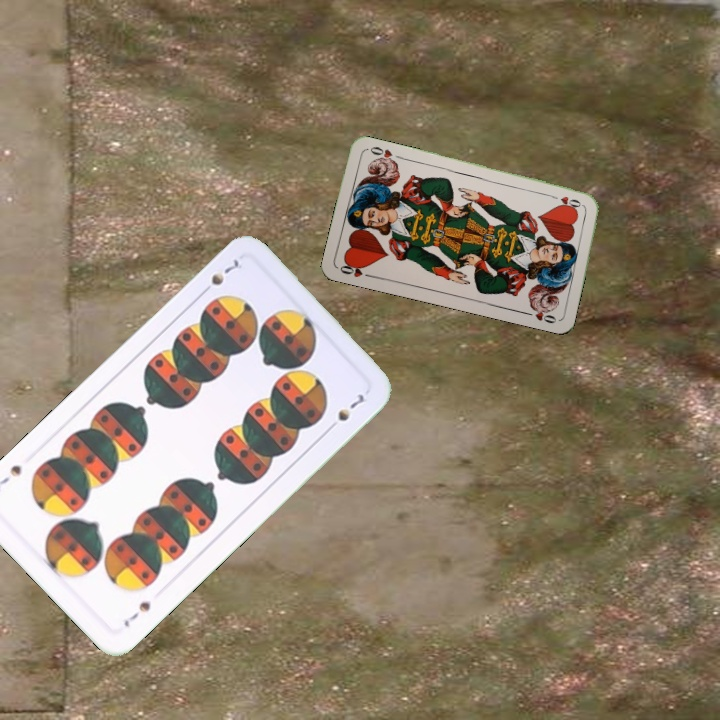HO: (336, 258, 375, 280), (546, 191, 586, 210)
S7: (196, 255, 242, 298), (119, 597, 153, 630)
